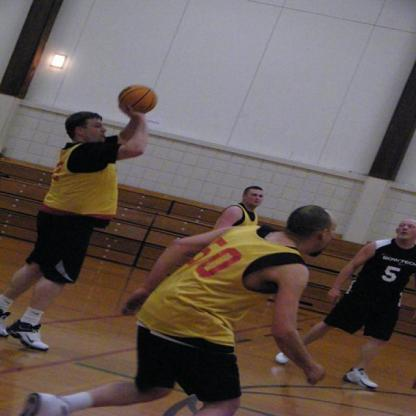basketball: (118, 84, 158, 113)
